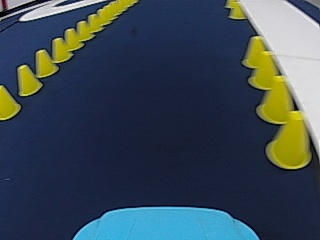cone: (266, 111, 313, 169), (257, 74, 294, 123), (250, 49, 281, 88), (15, 63, 41, 96), (242, 35, 267, 69), (0, 85, 20, 119), (33, 49, 56, 77), (50, 37, 69, 62), (73, 20, 91, 41), (62, 28, 79, 50), (85, 13, 100, 33), (228, 2, 244, 19)
